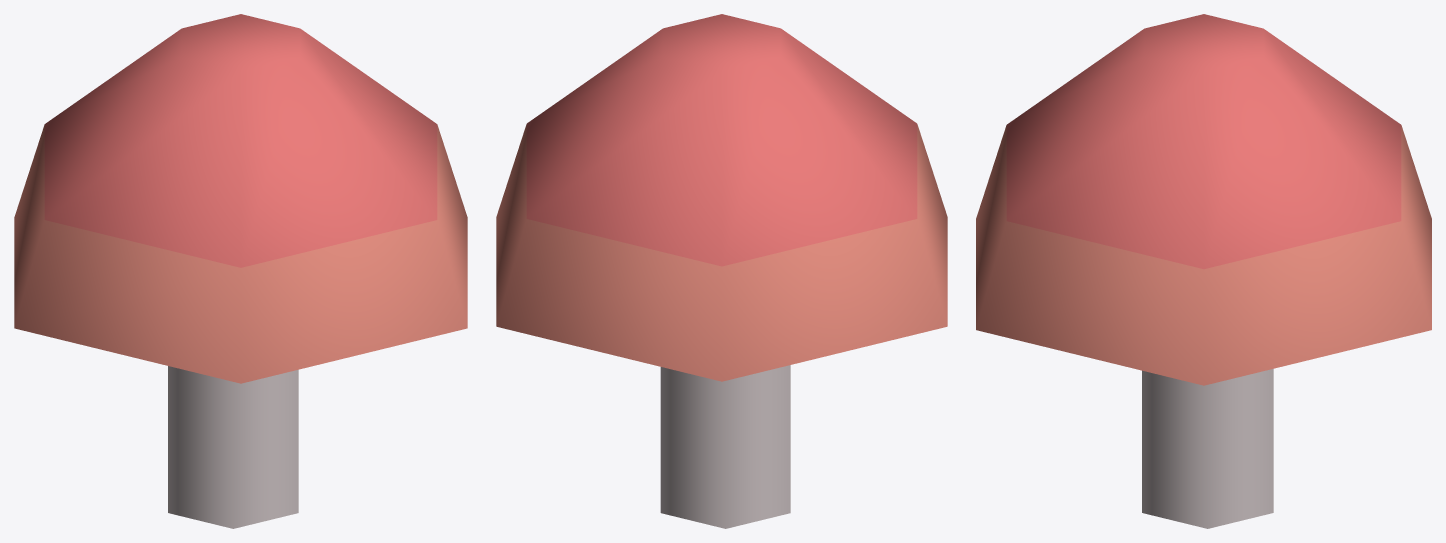
File: mushroom.glb
3 renders of one model, left to right at view 1: azimuth 30°, elevation 25°; view 2: azimuth 150°, elevation 25°; view 3: azimuth 270°, elevation 25°, orthographic.
Parts seen in each view (by area): view 1: Mushroom.001; view 2: Mushroom.001; view 3: Mushroom.001.
Boxes of the visible parts, x1,y1,x2,y2 form: Mushroom.001: (14, 14, 467, 528); Mushroom.001: (496, 14, 947, 528); Mushroom.001: (976, 14, 1431, 528).
Bounding box in the file's own units: 0.2118 × 0.2027 × 0.1835.
